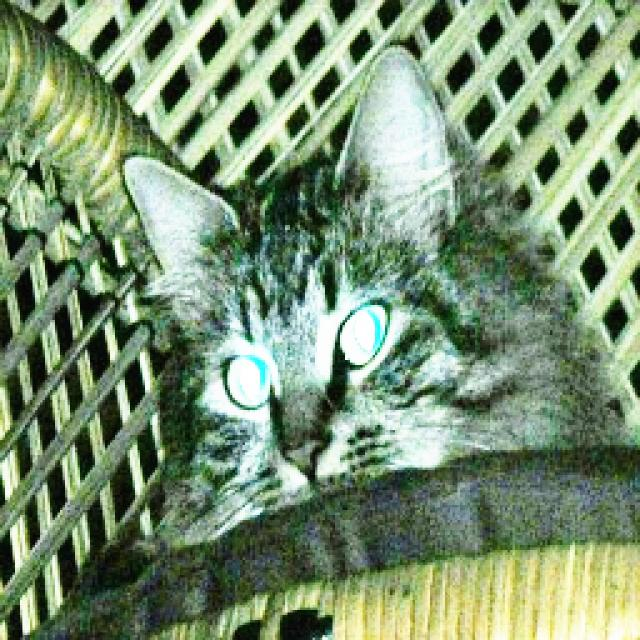cat: (116, 44, 624, 542)
